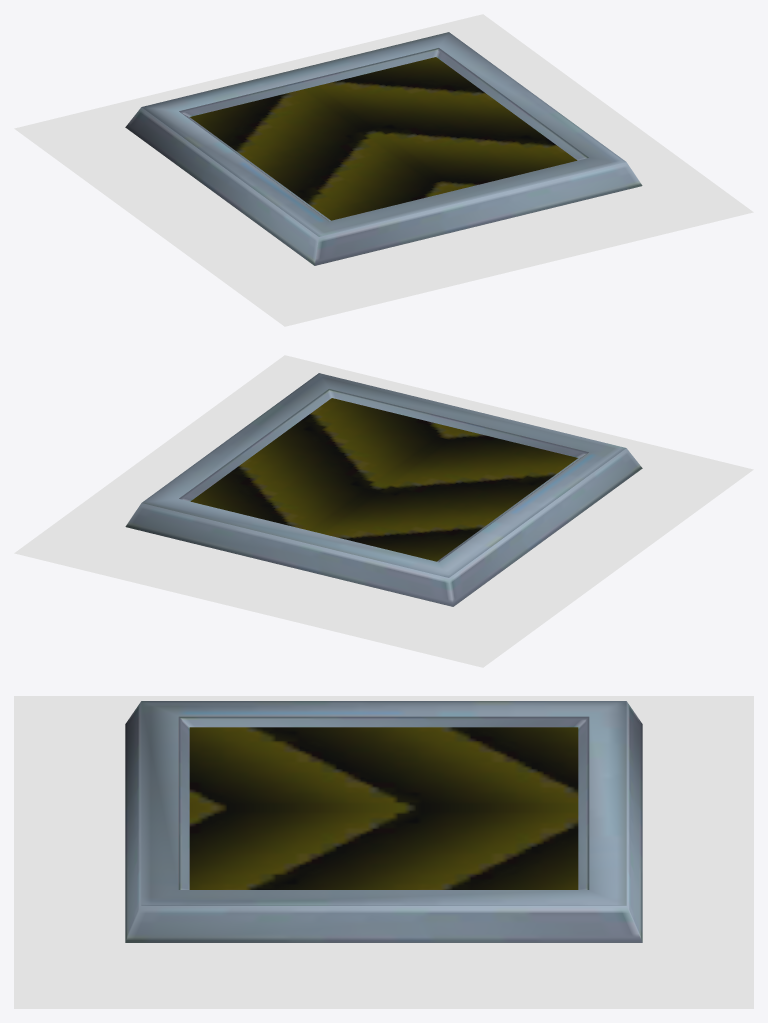
File: [GIMMICK]accel_tile.fbx
3 renders of one model, top to bottom at view 1: azimuth 30°, elevation 25°; view 2: azimuth 150°, elevation 25°; view 3: azimuth 270°, elevation 25°, orthographic. The views are drawn at different scales.
Parts seen in each view (by area): view 1: shadow (8), accel_tile, glow; view 2: shadow (8), accel_tile, glow; view 3: shadow (8), glow, accel_tile.
Boxes of the visible parts, x1=… form: shadow (8): x1=14, y1=14, x2=753, y2=326; accel_tile: x1=125, y1=32, x2=642, y2=265; glow: x1=190, y1=57, x2=577, y2=220; shadow (8): x1=14, y1=355, x2=753, y2=667; accel_tile: x1=125, y1=373, x2=642, y2=606; glow: x1=190, y1=398, x2=577, y2=561; shadow (8): x1=14, y1=696, x2=753, y2=1008; glow: x1=189, y1=727, x2=578, y2=889; accel_tile: x1=125, y1=701, x2=642, y2=942.
Size of the model in its own units: 1.44 by 0.1055 by 1.44.
Materials: 3 (3 with a texture image).
